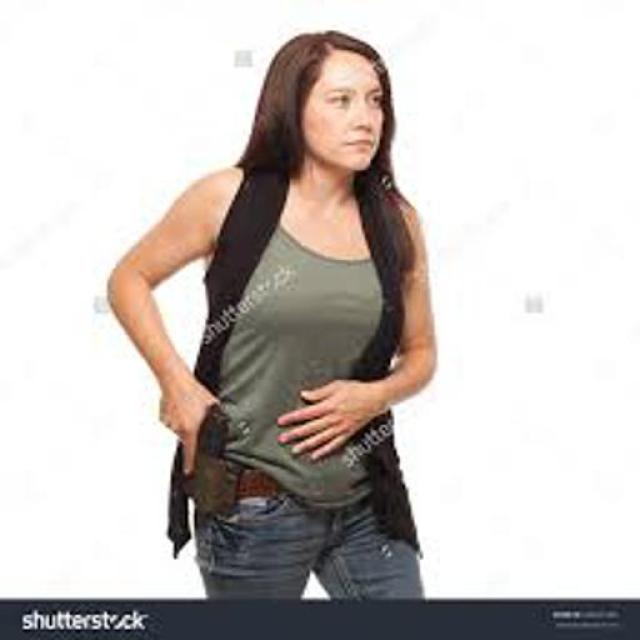pistol: (148, 391, 234, 516)
